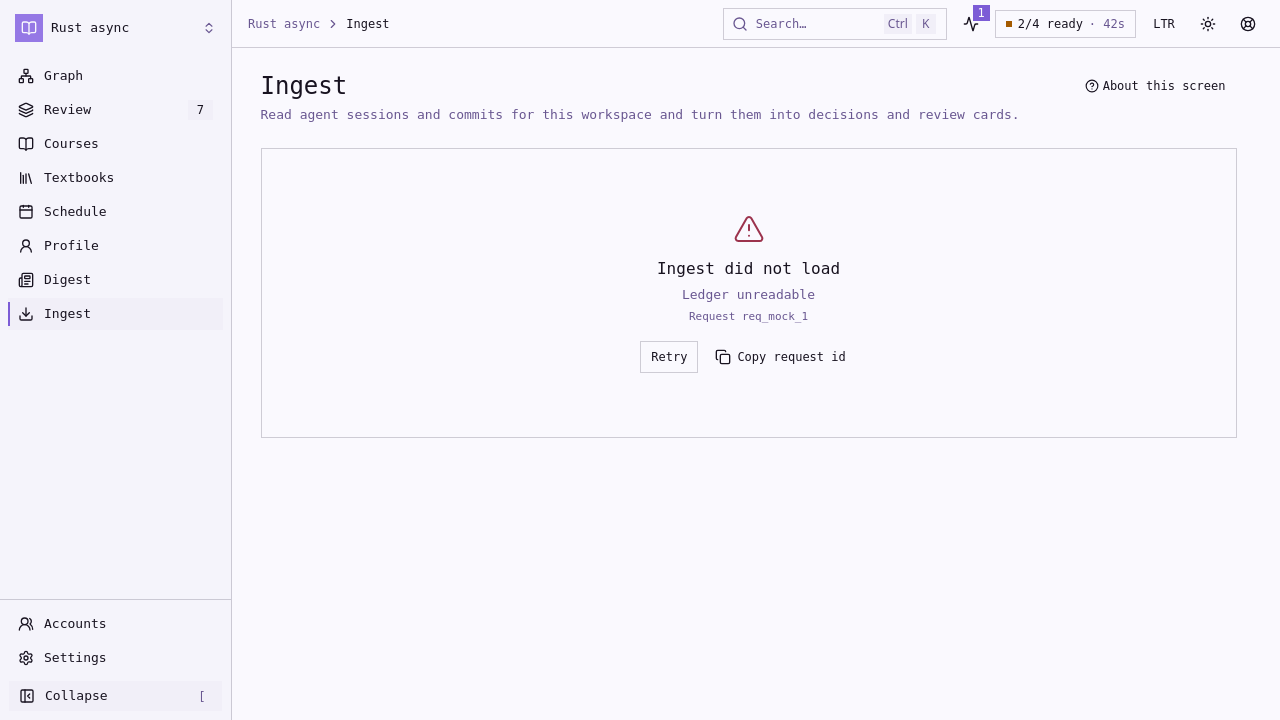
Ingest: five states › error: surfaces the server message and retries
Check: the element with test id "screen-ingest" is shown, box [260,72,1236,438]
Check: the message with test id "error-state" shows "Ledger unreadable", box [682,287,815,302]
Click the button with test id "error-retry".
click(669, 357)  # box [640,341,698,373]
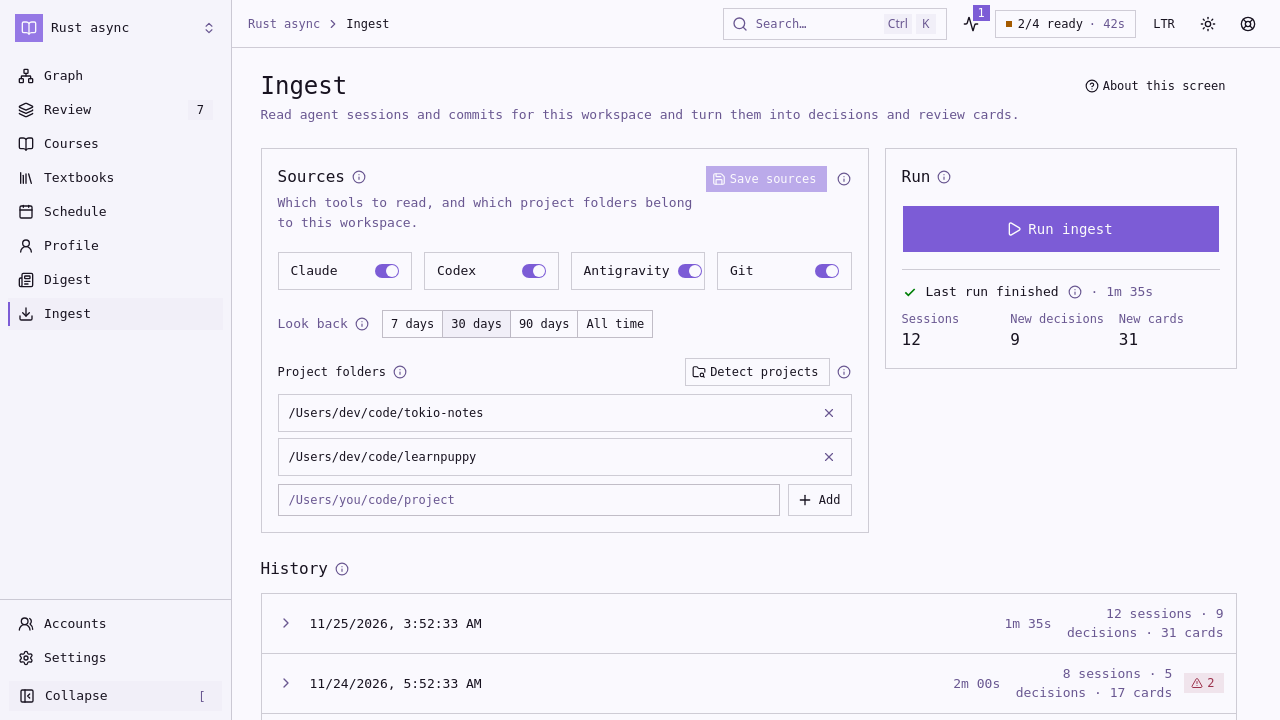
Check: the element with test id "ingest-sources" is shown, box [260,148,868,533]
